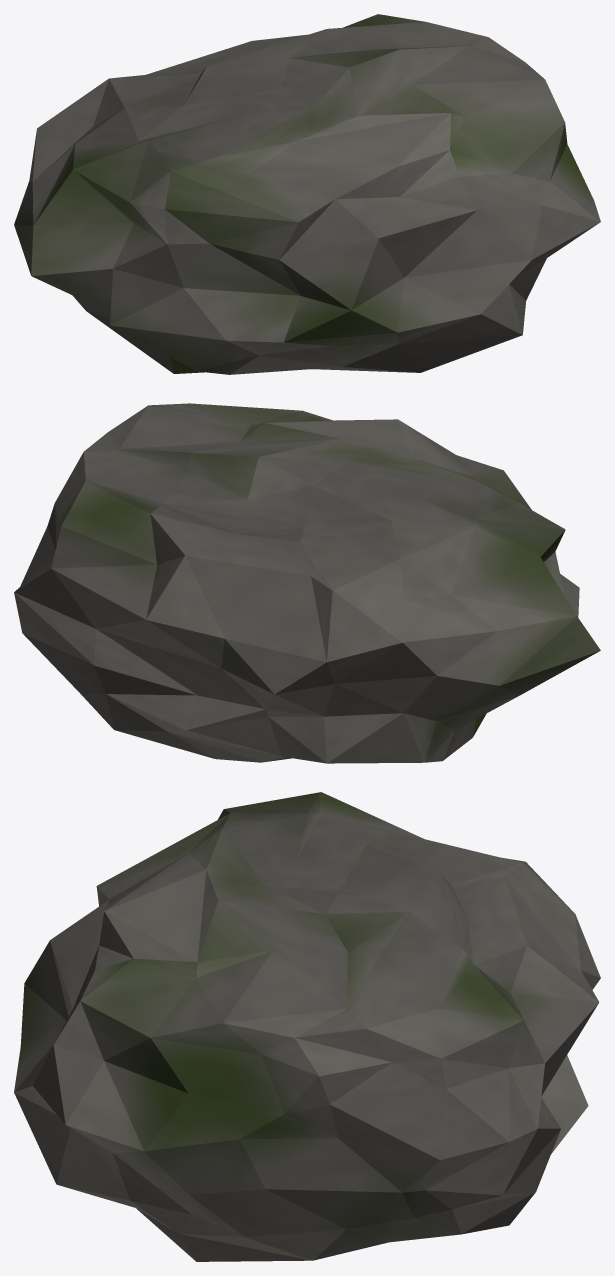
Rendered from rock.glb.
3 renders of one model, top to bottom at view 1: azimuth 30°, elevation 25°; view 2: azimuth 150°, elevation 25°; view 3: azimuth 270°, elevation 25°, orthographic. The views are drawn at different scales.
Visible parts, largest first — view 1: rock; view 2: rock; view 3: rock.
Boxes of the visible parts, x1,y1,x2,y2 form: rock: (14,14,600,374); rock: (14,403,600,763); rock: (14,792,600,1261).
Size of the model in its own units: 1.51 by 0.7672 by 1.28.
1 material, 1 textured.
